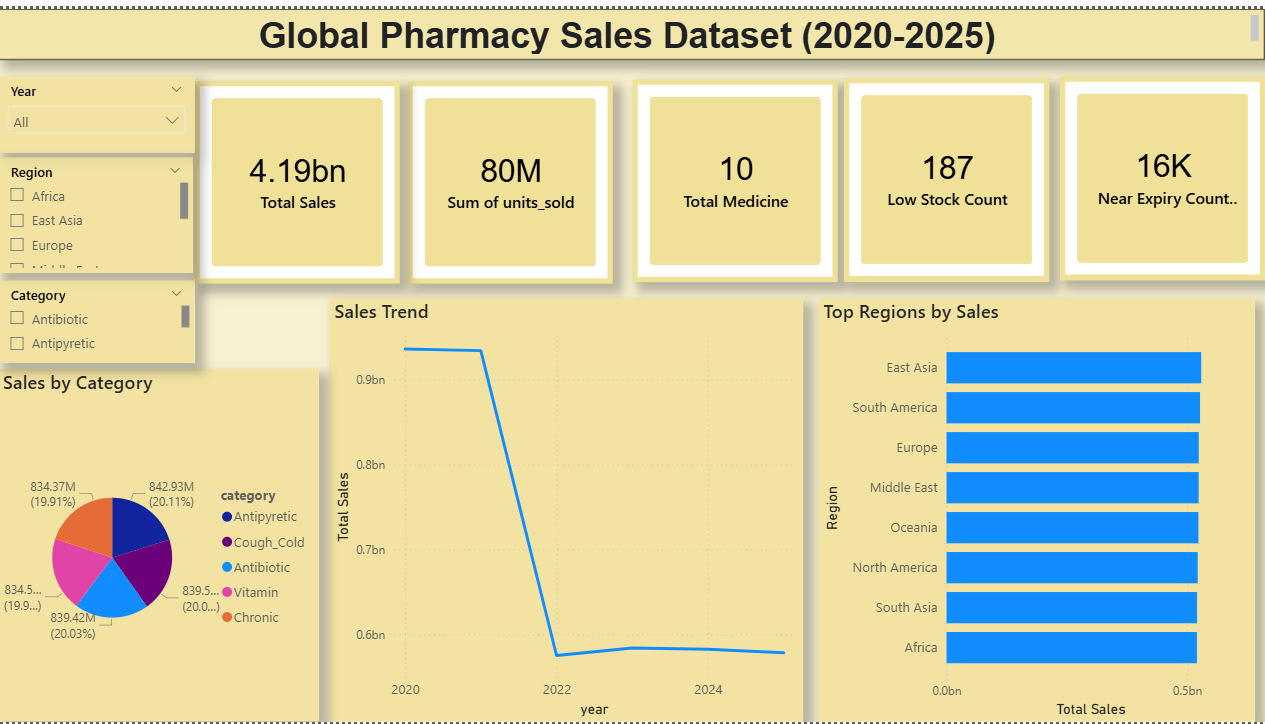

The dashboard page shown, as its layout file describes it:
{"tool":"powerbi","page":{"name":"Executive Summary","canvas":[1280,720],"ordinal":0},"visuals":[{"type":"cardVisual","fields":{"Data":["Sum(global_pharmacy_sales_2020_2025.units_sold)"]},"box":[413.4,72.7,207.4,204.4],"z":0},{"type":"textbox","box":[0,0,1279.5,51.5],"z":1000},{"type":"cardVisual","fields":{"Data":["global_pharmacy_sales_2020_2025.Total Sales"]},"box":[198.4,72.7,207.4,204.4],"z":2000},{"type":"cardVisual","fields":{"Data":["global_pharmacy_sales_2020_2025.Total Medicine"]},"box":[640.5,71.2,207.4,204.4],"z":3000},{"type":"cardVisual","fields":{"Data":["global_pharmacy_sales_2020_2025.Low Stock Count"]},"box":[854,69.7,207.4,205.9],"z":4000},{"type":"cardVisual","fields":{"Data":["global_pharmacy_sales_2020_2025.Near Expiry"]},"box":[1072.1,68.1,207.4,205.9],"z":5000},{"type":"lineChart","title":"  Sales Trend","fields":{"Category":["global_pharmacy_sales_2020_2025.year"],"Y":["global_pharmacy_sales_2020_2025.Total Sales"]},"box":[334.6,292.2,478.5,427],"z":6000},{"type":"pieChart","title":"Sales by Category","fields":{"Category":["global_pharmacy_sales_2020_2025.category"],"Y":["global_pharmacy_sales_2020_2025.Total Sales"]},"box":[0,363.4,324,355.8],"z":7000},{"type":"barChart","title":"Top Regions by Sales","fields":{"Category":["global_pharmacy_sales_2020_2025.region"],"Y":["global_pharmacy_sales_2020_2025.Total Sales"]},"box":[828.3,292.2,440.6,427],"z":8000},{"type":"slicer","fields":{"Values":["global_pharmacy_sales_2020_2025.year"]},"box":[0,68.1,198.4,77.2],"z":9000},{"type":"slicer","fields":{"Values":["global_pharmacy_sales_2020_2025.region"]},"box":[0,149.9,196.8,116.6],"z":10000},{"type":"slicer","fields":{"Values":["global_pharmacy_sales_2020_2025.category"]},"box":[0,274.1,198.4,83.3],"z":11000}]}

Visuals, with their boxes in screenshot pixels (x1, y1, x2, y2), scaled from the page's 1280x720 canvas onto the 1265x724 screenshot:
cardVisual - Sum(global_pharmacy_sales_2020_2025.units_sold): box(409, 73, 614, 279)
textbox: box(0, 0, 1264, 52)
cardVisual - global_pharmacy_sales_2020_2025.Total Sales: box(196, 73, 401, 279)
cardVisual - global_pharmacy_sales_2020_2025.Total Medicine: box(633, 72, 838, 277)
cardVisual - global_pharmacy_sales_2020_2025.Low Stock Count: box(844, 70, 1049, 277)
cardVisual - global_pharmacy_sales_2020_2025.Near Expiry: box(1060, 68, 1264, 276)
"  Sales Trend" lineChart: box(331, 294, 804, 723)
"Sales by Category" pieChart: box(0, 365, 320, 723)
"Top Regions by Sales" barChart: box(819, 294, 1254, 723)
slicer - global_pharmacy_sales_2020_2025.year: box(0, 68, 196, 146)
slicer - global_pharmacy_sales_2020_2025.region: box(0, 151, 194, 268)
slicer - global_pharmacy_sales_2020_2025.category: box(0, 276, 196, 359)
